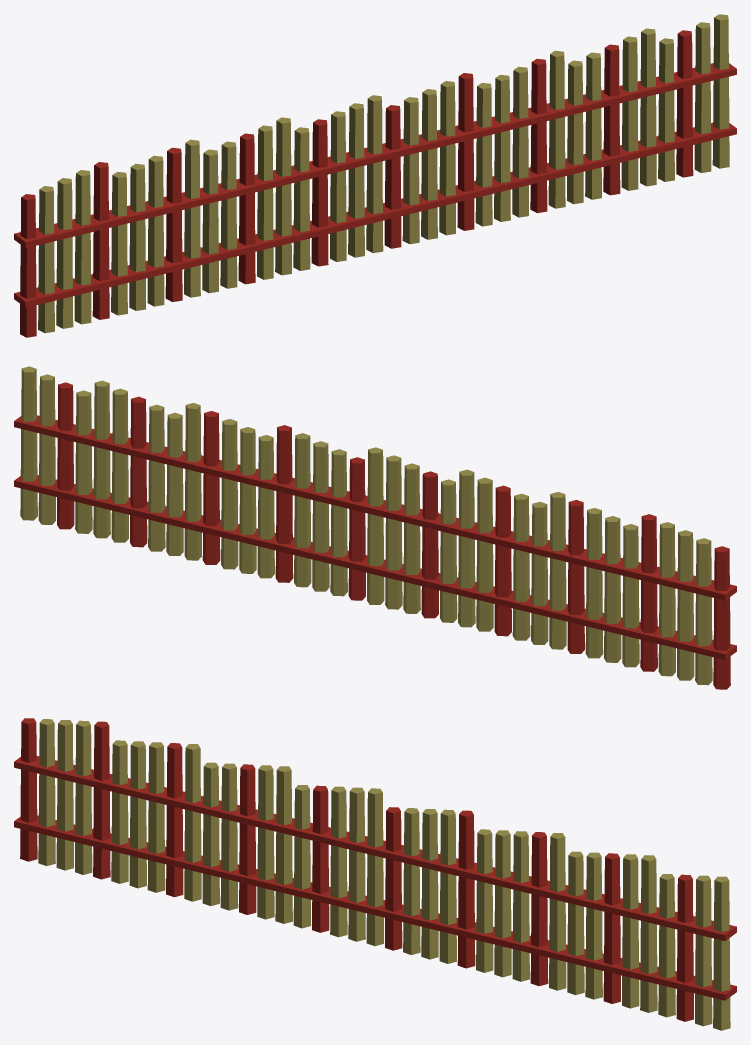
The model's file is macaque_wall_broken.glb.
3 renders of one model, top to bottom at view 1: azimuth 30°, elevation 25°; view 2: azimuth 150°, elevation 25°; view 3: azimuth 330°, elevation 25°, orthographic.
Visible parts, largest first — view 1: macaque_wall_piece13, macaque_wall_piece2, macaque_wall_piece7, macaque_wall_piece6, macaque_wall_piece10, macaque_wall_piece3, macaque_wall_piece1, macaque_wall_piece4, macaque_wall_piece12, macaque_wall_piece11, macaque_wall_piece8, macaque_wall_piece5 (+2 smaller); view 2: macaque_wall_piece13, macaque_wall_piece7, macaque_wall_piece2, macaque_wall_piece10, macaque_wall_piece1, macaque_wall_piece9, macaque_wall_piece6, macaque_wall_piece5, macaque_wall_piece11, macaque_wall_piece12, macaque_wall_piece8, macaque_wall_piece0 (+2 smaller); view 3: macaque_wall_piece7, macaque_wall_piece2, macaque_wall_piece13, macaque_wall_piece6, macaque_wall_piece10, macaque_wall_piece3, macaque_wall_piece1, macaque_wall_piece4, macaque_wall_piece12, macaque_wall_piece8, macaque_wall_piece11, macaque_wall_piece5 (+2 smaller).
Boxes of the visible parts, x1,y1,x2,y2 form: macaque_wall_piece13: (14,181,154,337); macaque_wall_piece2: (513,28,673,199); macaque_wall_piece7: (602,14,736,195); macaque_wall_piece6: (275,99,404,271); macaque_wall_piece10: (421,109,555,234); macaque_wall_piece3: (155,143,333,306); macaque_wall_piece1: (62,136,254,257); macaque_wall_piece4: (51,166,218,277); macaque_wall_piece12: (391,73,498,172); macaque_wall_piece11: (348,129,448,257); macaque_wall_piece8: (472,71,592,208); macaque_wall_piece5: (253,89,428,205); macaque_wall_piece13: (587,536,736,689); macaque_wall_piece7: (14,366,154,550); macaque_wall_piece2: (78,380,237,544); macaque_wall_piece10: (184,458,330,583); macaque_wall_piece1: (502,485,681,623); macaque_wall_piece9: (438,486,564,649); macaque_wall_piece6: (342,447,480,631); macaque_wall_piece5: (315,446,496,585); macaque_wall_piece11: (294,483,402,609); macaque_wall_piece12: (241,425,364,517); macaque_wall_piece8: (150,425,284,556); macaque_wall_piece0: (556,563,642,655); macaque_wall_piece7: (597,874,736,1030); macaque_wall_piece2: (513,831,673,999); macaque_wall_piece13: (14,718,148,889); macaque_wall_piece6: (288,793,403,937); macaque_wall_piece10: (419,864,549,986); macaque_wall_piece3: (148,811,322,923); macaque_wall_piece1: (79,720,248,860); macaque_wall_piece4: (44,720,211,878); macaque_wall_piece12: (386,808,492,885); macaque_wall_piece8: (465,816,585,996); macaque_wall_piece11: (348,847,441,961); macaque_wall_piece5: (254,765,435,850).
Bounding box in the file's own units: 6.25 × 1.27 × 0.18.
